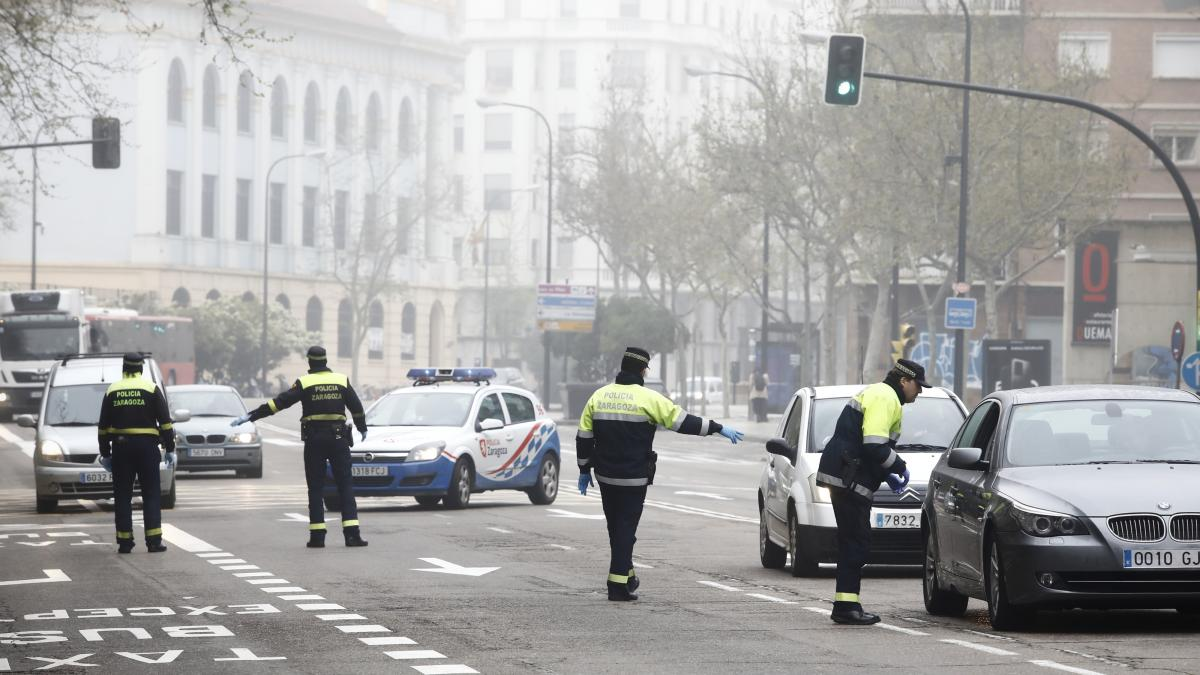Persona: (820, 354, 933, 634), (574, 342, 682, 603), (75, 342, 190, 565), (267, 340, 377, 560)
Vehiculo: (923, 375, 1200, 628), (750, 372, 981, 584)
